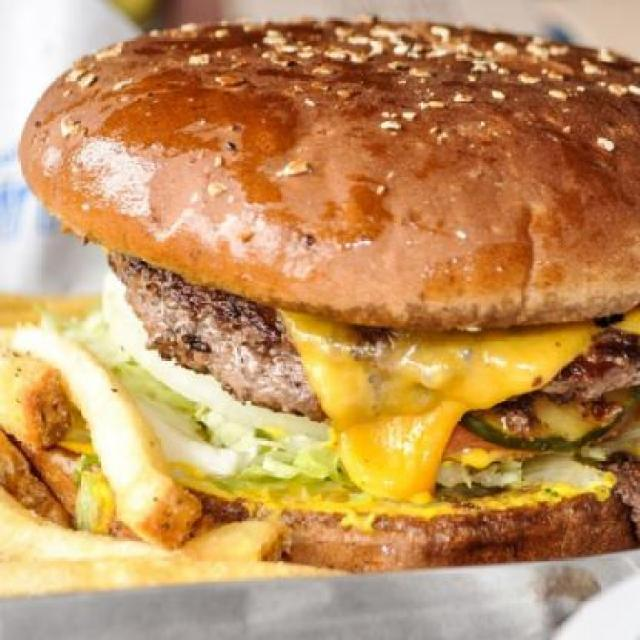Hamburger: (16, 11, 639, 576)
